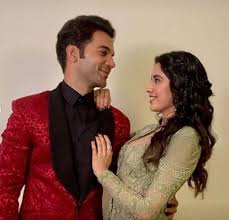Bad: (1, 14, 215, 220)
